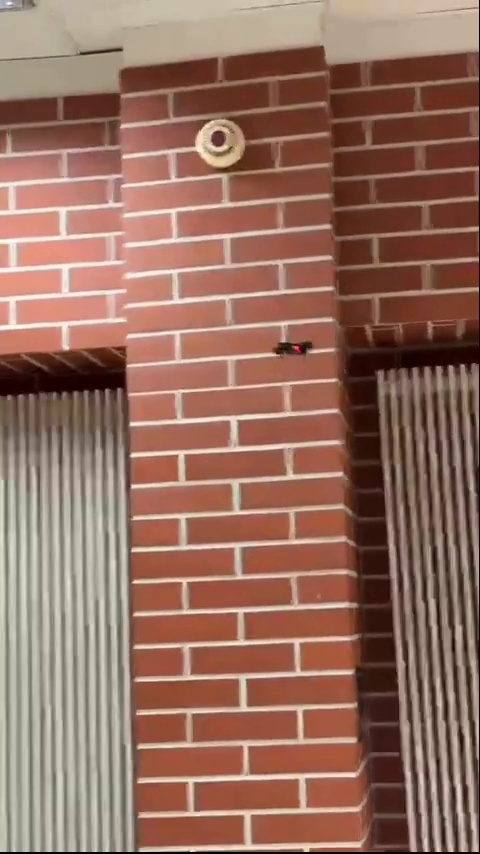drone: (271, 337, 312, 356)
